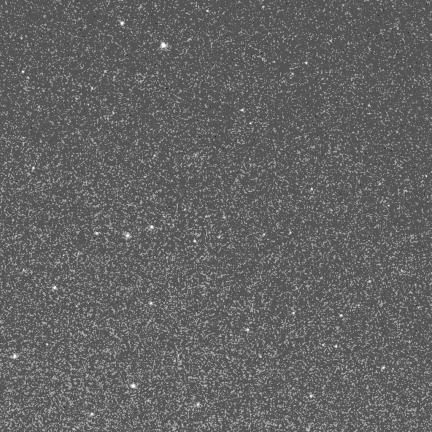blob: (161, 43, 166, 48), (13, 354, 17, 359), (131, 384, 136, 388), (368, 280, 372, 284), (53, 286, 57, 290), (149, 301, 153, 305), (193, 239, 197, 243), (218, 235, 222, 239), (240, 109, 244, 112), (262, 234, 266, 237), (120, 22, 124, 25), (246, 328, 249, 332), (150, 225, 153, 229), (22, 70, 25, 74), (90, 413, 94, 416), (340, 314, 343, 318), (334, 345, 337, 348), (310, 395, 313, 398)
